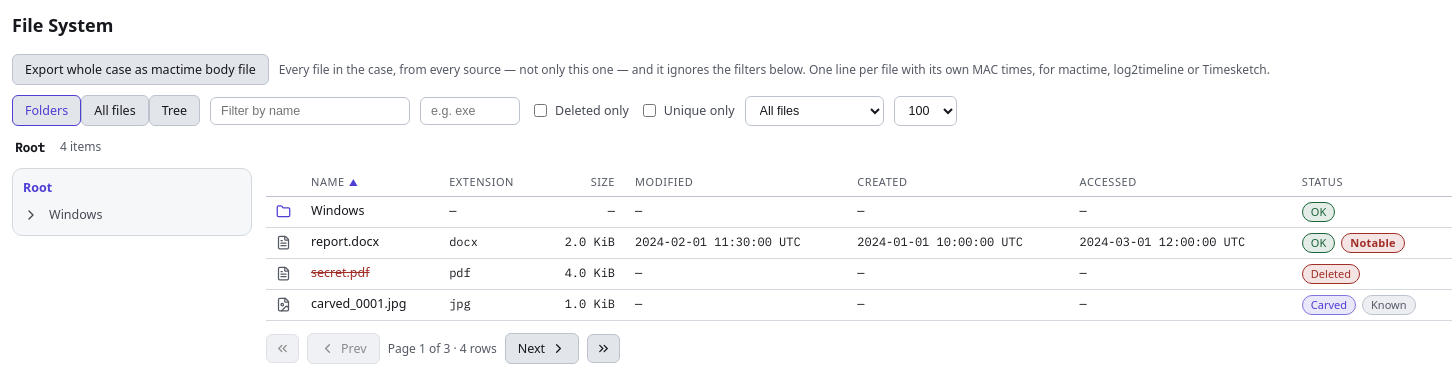
Test: FileGridPage folder mode › navigates folders from the directory tree
Expected: the text "report.docx" is shown, [311,233,379,250]
What coordinates should you click on to do the following:
click the button named "Expand Windows"
I would click on:
 (31, 215)
Its box is [19,203,43,227].
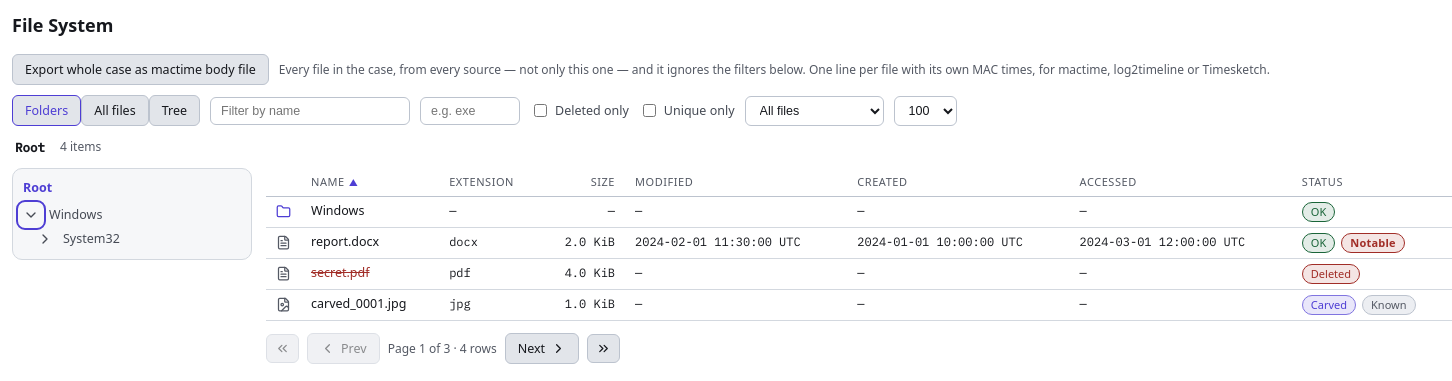
What coordinates should you click on to do the following:
click the button "System32"
I would click on:
 (91, 239)
Its box is [59,228,124,250].
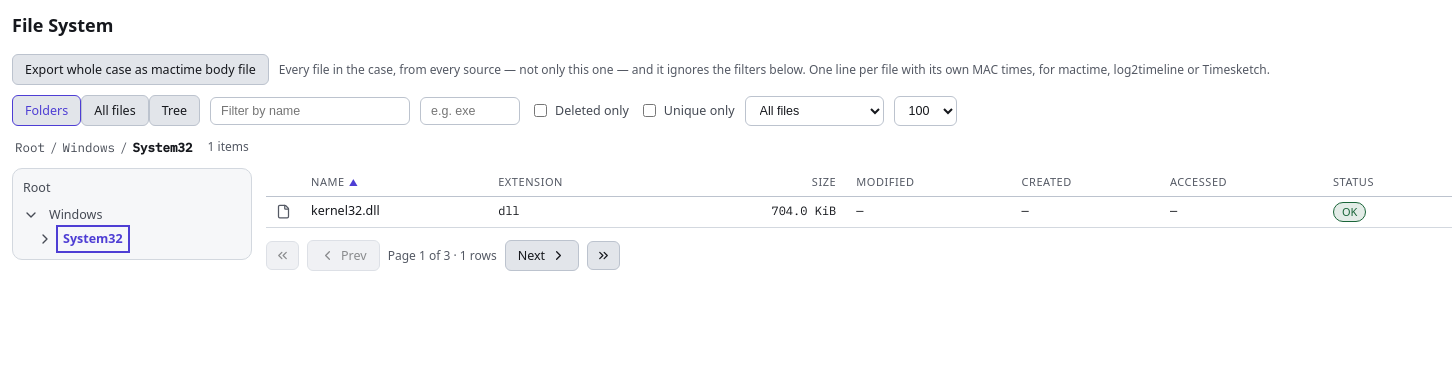
Expected: the button "Windows" in the row of "items" is shown, [60,137,118,157]
Result: the text "kernel32.dll" is shown at [311,202,380,219]
Result: the button "System32" in the row of "items" is shown at [130,137,196,157]
